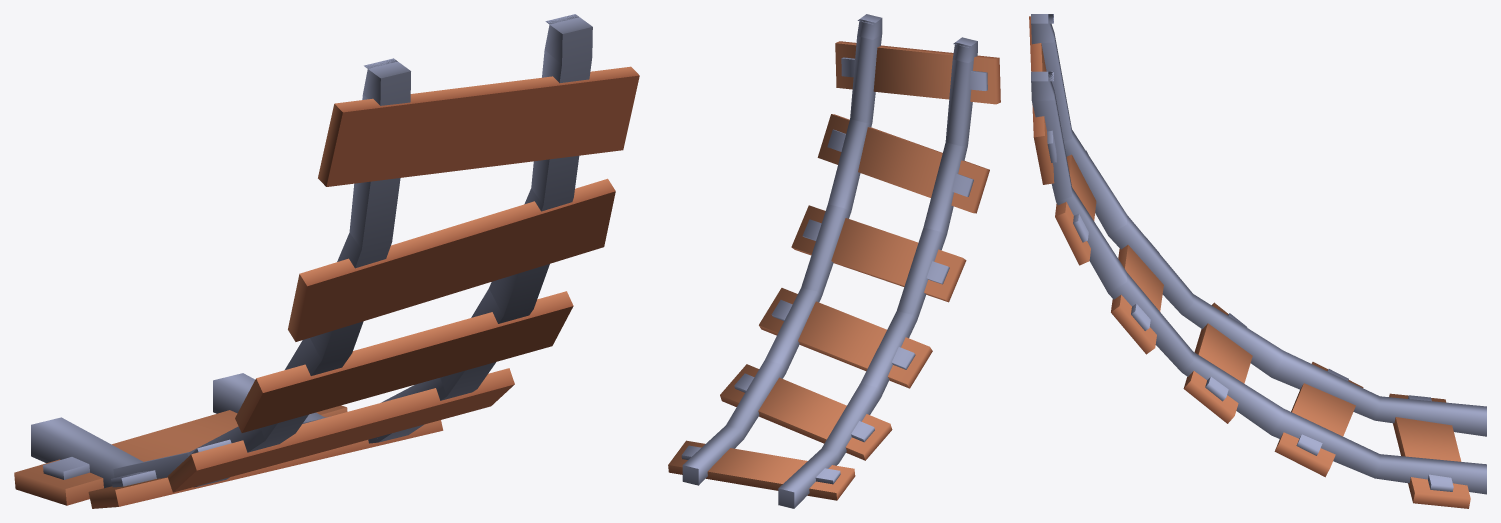
File: railroad-damaged-straight-bend.glb
3 renders of one model, left to right at view 1: azimuth 30°, elevation 25°; view 2: azimuth 150°, elevation 25°; view 3: azimuth 270°, elevation 25°, orthographic. The views are drawn at different scales.
Parts seen in each view (by area): view 1: railroad-damaged-straight-bend; view 2: railroad-damaged-straight-bend; view 3: railroad-damaged-straight-bend.
Part boxes in pixels (x1=…): railroad-damaged-straight-bend: x1=14, y1=14, x2=639, y2=508; railroad-damaged-straight-bend: x1=668, y1=14, x2=1000, y2=508; railroad-damaged-straight-bend: x1=1029, y1=14, x2=1486, y2=508.
Size of the model in its own units: 1.03 by 2.01 by 2.01.
